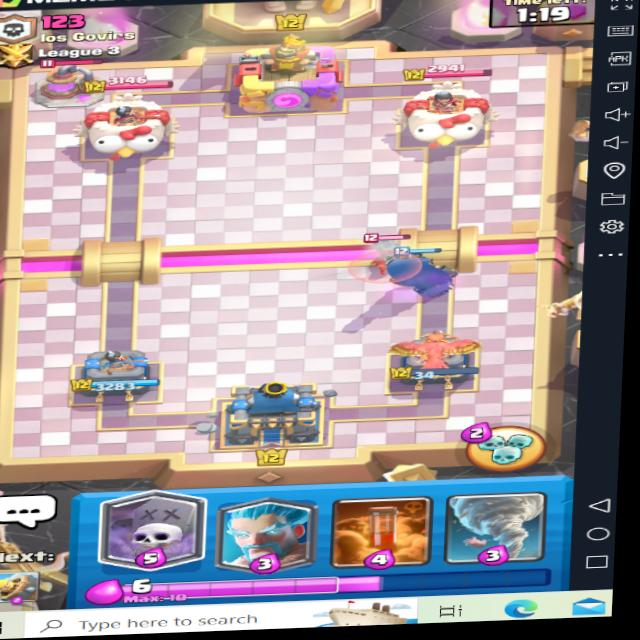bandit: (356, 240, 414, 278)
elixir-collector: (25, 64, 108, 109)
